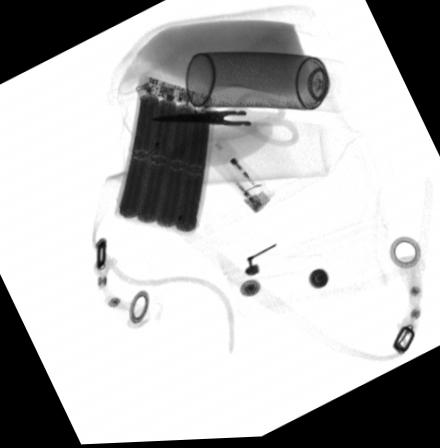Lighter: (192, 124, 276, 220)
Powerbank: (108, 77, 211, 242)
Scissors: (148, 93, 298, 151)
Sprayer: (182, 55, 358, 117)
